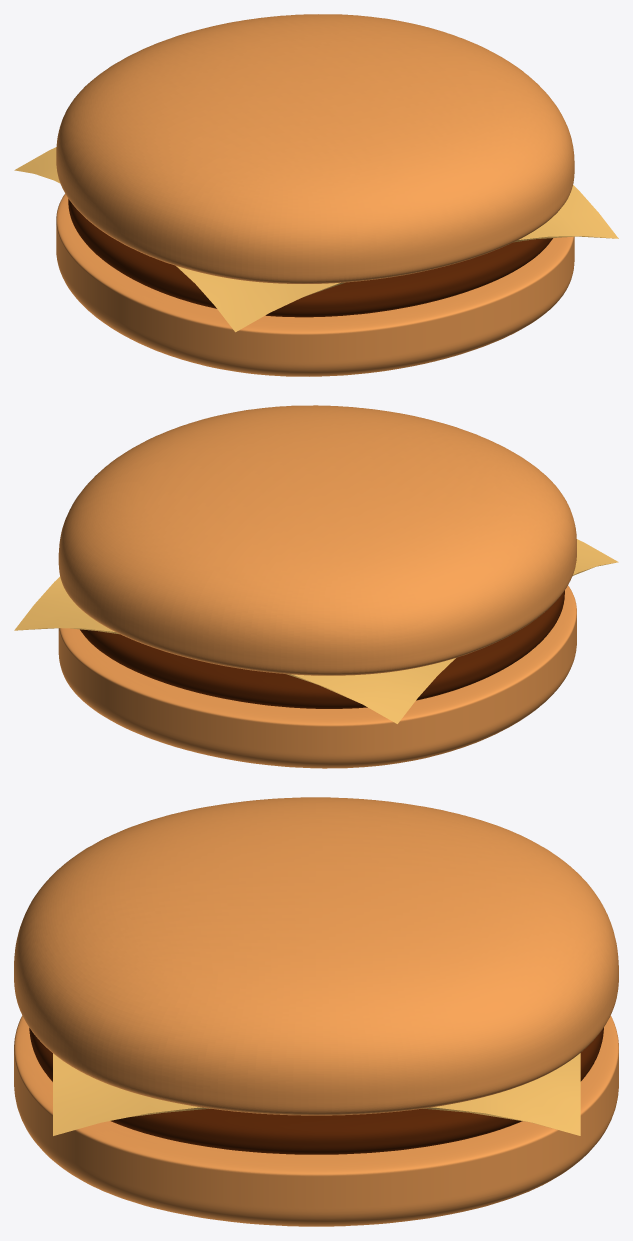
Rendered from hamburger-draco-gltfpipeline.glb.
The picture shows the model from 3 angles, top to bottom: view 1: azimuth 30°, elevation 25°; view 2: azimuth 150°, elevation 25°; view 3: azimuth 270°, elevation 25°; orthographic projection. The views are drawn at different scales.
Visible parts, largest first — view 1: top-bum, button-bun, meat, cheese; view 2: top-bum, button-bun, meat, cheese; view 3: top-bum, button-bun, meat, cheese.
Part boxes in pixels (x1,y1,x2,y2): top-bum: (56, 14, 574, 283); button-bun: (56, 194, 574, 376); meat: (68, 199, 552, 317); cheese: (14, 147, 618, 332); top-bum: (58, 405, 576, 675); button-bun: (58, 585, 576, 768); meat: (80, 590, 564, 708); cheese: (14, 539, 618, 723); top-bum: (14, 797, 618, 1115); button-bun: (14, 1015, 618, 1226); meat: (29, 1027, 603, 1154); cheese: (53, 1053, 580, 1135).
Size of the model in its own units: 18.33 by 8.53 by 18.34.
